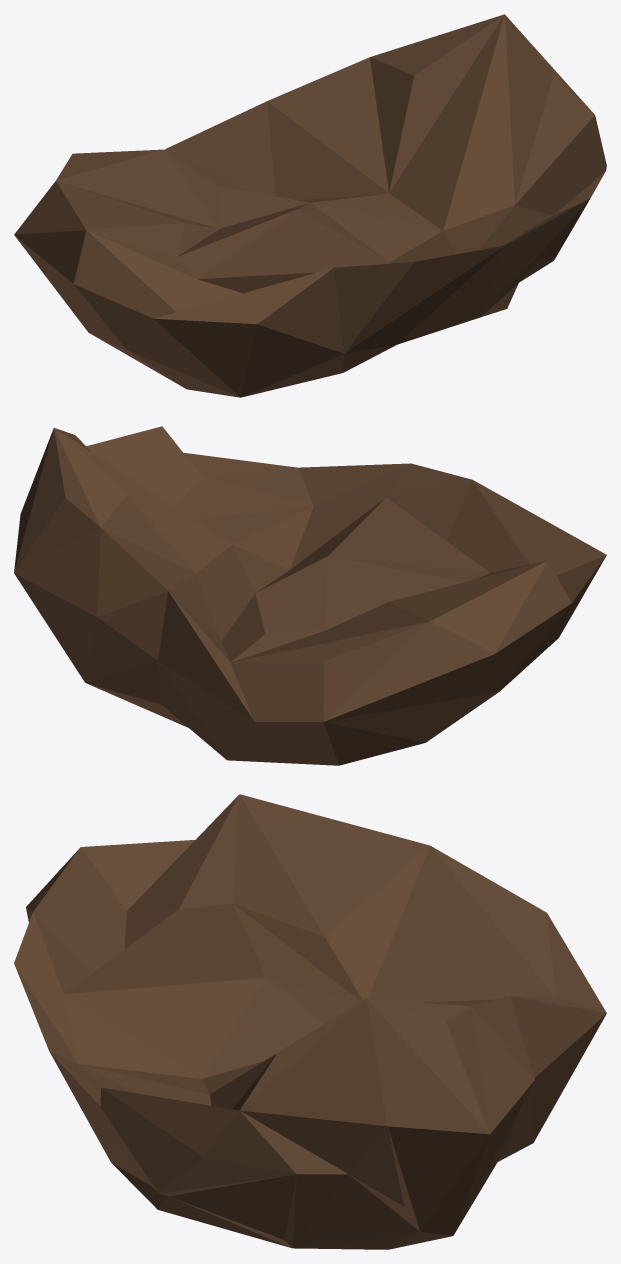
Rendered from rock3.fbx.
3 views of the same model, one above another, from view 1: azimuth 30°, elevation 25°; view 2: azimuth 150°, elevation 25°; view 3: azimuth 270°, elevation 25° (orthographic). The views are drawn at different scales.
Parts seen in each view (by area): view 1: Cube.002; view 2: Cube.002; view 3: Cube.002.
Boxes of the visible parts, x1=… form: Cube.002: x1=14, y1=14, x2=606, y2=397; Cube.002: x1=14, y1=426, x2=606, y2=765; Cube.002: x1=14, y1=794, x2=606, y2=1249.
Size of the model in its own units: 1.88 by 0.9219 by 1.49.
